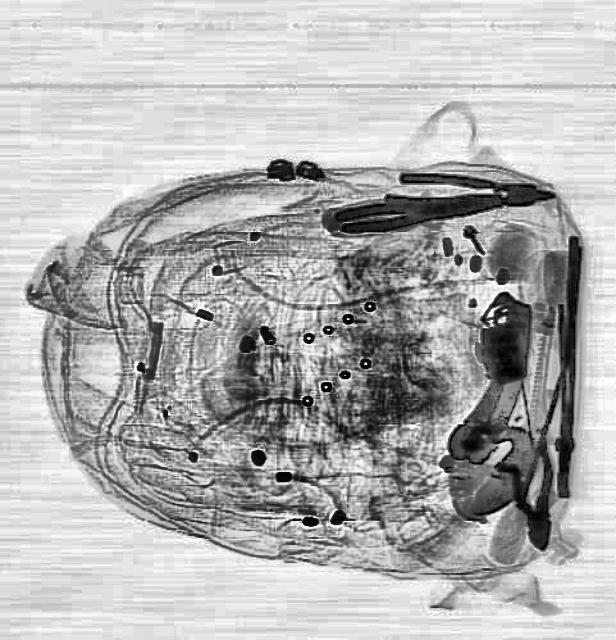Pliers: (488, 432, 572, 556), (330, 182, 504, 236)
